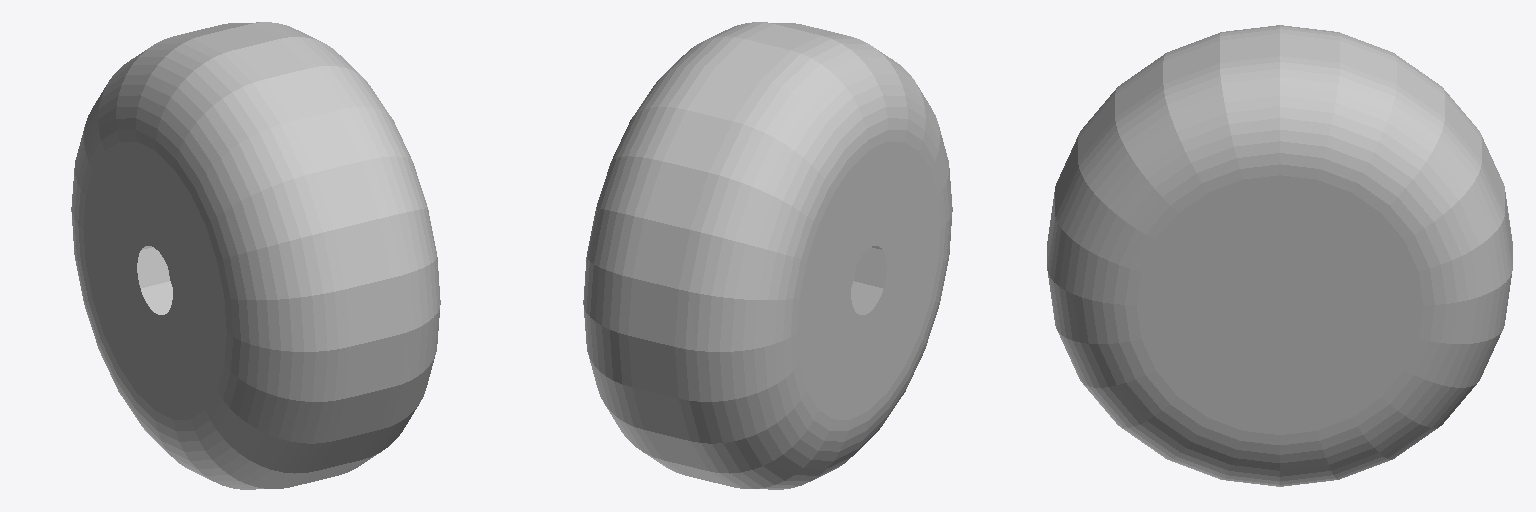
File: original-231.obj
3 views of the same model, side by side, from view 1: azimuth 30°, elevation 25°; view 2: azimuth 150°, elevation 25°; view 3: azimuth 270°, elevation 25° (orthographic).
Parts seen in each view (by area): view 1: #ID1424; view 2: #ID1424; view 3: #ID1424.
Boxes of the visible parts, x1=… form: #ID1424: x1=71, y1=22, x2=440, y2=489; #ID1424: x1=583, y1=22, x2=952, y2=489; #ID1424: x1=1047, y1=25, x2=1512, y2=486.
Size of the model in its own units: 0.0196 by 0.0391 by 0.0391.